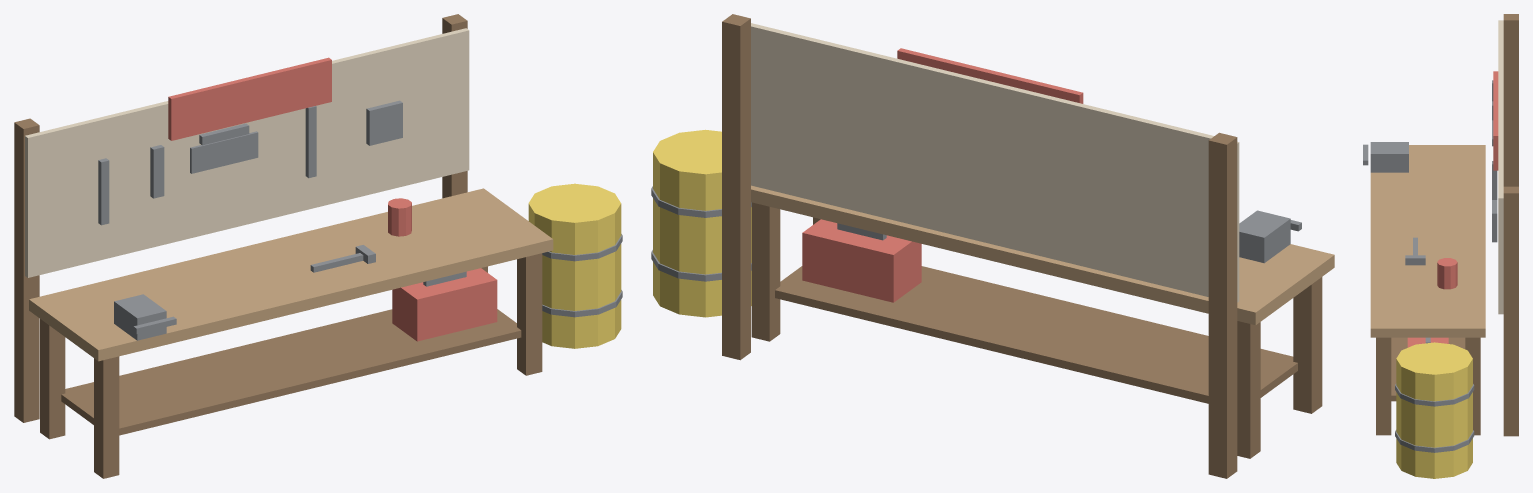
File: workbench.glb
3 views of the same model, side by side, from view 1: azimuth 30°, elevation 25°; view 2: azimuth 150°, elevation 25°; view 3: azimuth 270°, elevation 25° (orthographic). The views are drawn at different scales.
Visible parts, largest first — view 1: board_panel, bench_top, bench_shelf, drum, bench_legs, board_sign, board_posts, board_tools, toolbox, vice, drum_bands, can (+1 smaller); view 2: board_panel, bench_shelf, board_posts, bench_top, drum, bench_legs, toolbox, vice, board_sign, drum_bands; view 3: bench_top, drum, board_posts, bench_legs, board_panel, vice, drum_bands, bench_shelf, can, board_sign, board_tools, hammer (+1 smaller).
Boxes of the visible parts, left/top/right/bottom form: board_panel: left=25, top=28, right=469, bottom=277; bench_top: left=29, top=188, right=553, bottom=361; bench_shelf: left=61, top=309, right=521, bottom=435; drum: left=528, top=183, right=621, bottom=348; bench_legs: left=40, top=253, right=542, bottom=478; board_sign: left=168, top=57, right=331, bottom=140; board_posts: left=14, top=14, right=467, bottom=422; board_tools: left=98, top=100, right=402, bottom=225; toolbox: left=392, top=268, right=497, bottom=341; vice: left=114, top=294, right=176, bottom=340; drum_bands: left=542, top=234, right=622, bottom=317; can: left=388, top=198, right=411, bottom=236; board_panel: left=751, top=23, right=1239, bottom=302; bench_shelf: left=775, top=266, right=1297, bottom=403; board_posts: left=722, top=14, right=1237, bottom=478; bench_top: left=751, top=185, right=1334, bottom=325; drum: left=653, top=129, right=751, bottom=317; bench_legs: left=751, top=202, right=1322, bottom=458; toolbox: left=802, top=219, right=921, bottom=302; vice: left=1239, top=210, right=1301, bottom=263; board_sign: left=897, top=48, right=1083, bottom=103; drum_bands: left=651, top=186, right=751, bottom=281; bench_top: left=1370, top=145, right=1485, bottom=337; drum: left=1396, top=342, right=1472, bottom=478; board_posts: left=1503, top=14, right=1518, bottom=436; bench_legs: left=1376, top=337, right=1480, bottom=435; board_panel: left=1498, top=20, right=1503, bottom=314; vice: left=1363, top=142, right=1408, bottom=172; drum_bands: left=1395, top=383, right=1474, bottom=452; bench_shelf: left=1391, top=337, right=1465, bottom=401; can: left=1437, top=258, right=1457, bottom=289; board_sign: left=1493, top=71, right=1498, bottom=170; board_tools: left=1492, top=80, right=1497, bottom=242; hammer: left=1405, top=237, right=1425, bottom=265.
Size of the model in its own units: 4.16 by 2.1 by 1.22.
